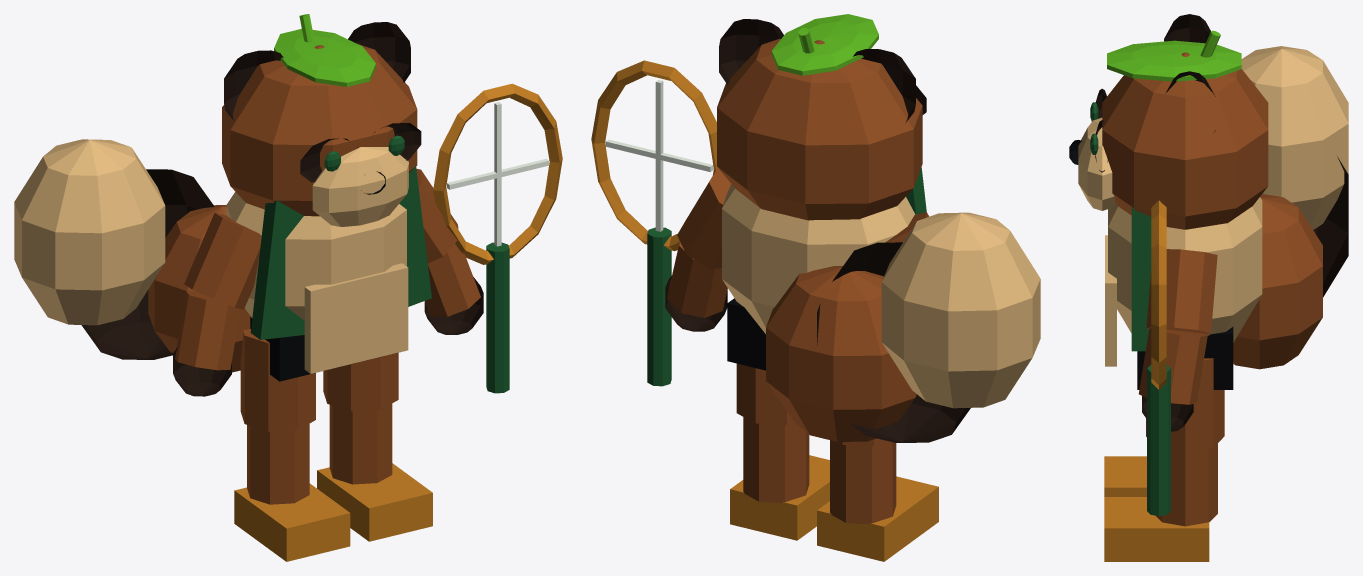
File: Poko_Tanuki_Model_v1.obj
3 renders of one model, left to right at view 1: azimuth 30°, elevation 25°; view 2: azimuth 150°, elevation 25°; view 3: azimuth 270°, elevation 25°, orthographic. The views are drawn at different scales.
Parts seen in each view (by area): view 1: Tail_2, Head, Haragake_Lower, Torso, L_Shoe, Muzzle, Racket_Frame, R_Shoe, Tail_0, L_Thigh, Tail_1, L_Upper_Arm (+19 smaller); view 2: Head, Tail_2, Tail_0, Torso, L_Shoe, L_Shin, R_Shin, Racket_Frame, Head_Leaf, Tail_1, R_Shoe, Racket_Handle (+9 smaller); view 3: Head, Tail_2, Tail_0, Torso, R_Shoe, Head_Leaf, R_Upper_Arm, R_Shin, Racket_Handle, Racket_Frame, R_Forearm, R_Thigh (+8 smaller).
Part boxes in pixels (x1,y1,x2,y2): Tail_2: [14, 139, 165, 325]; Head: [222, 43, 417, 216]; Haragake_Lower: [304, 263, 408, 373]; Torso: [226, 192, 406, 320]; L_Shoe: [234, 483, 350, 561]; Muzzle: [312, 147, 408, 226]; Racket_Frame: [433, 83, 562, 264]; R_Shoe: [317, 463, 432, 541]; Tail_0: [148, 205, 250, 372]; L_Thigh: [240, 329, 315, 431]; Tail_1: [81, 169, 214, 359]; L_Upper_Arm: [184, 213, 260, 309]; Head: [717, 38, 922, 220]; Tail_2: [881, 212, 1040, 408]; Tail_0: [766, 266, 916, 441]; Torso: [722, 184, 915, 333]; L_Shoe: [817, 476, 938, 561]; L_Shin: [830, 440, 896, 524]; R_Shin: [743, 417, 809, 502]; Racket_Frame: [591, 60, 717, 251]; Head_Leaf: [771, 14, 878, 75]; Tail_1: [817, 242, 970, 442]; R_Shoe: [730, 455, 829, 540]; Racket_Handle: [647, 227, 671, 386]; Head: [1102, 52, 1268, 229]; Tail_2: [1241, 46, 1348, 229]; Tail_0: [1233, 194, 1322, 369]; Torso: [1108, 197, 1262, 342]; R_Shoe: [1104, 497, 1209, 561]; Head_Leaf: [1107, 40, 1241, 81]; R_Upper_Arm: [1146, 249, 1217, 334]; R_Shin: [1156, 443, 1217, 526]; Racket_Handle: [1147, 365, 1170, 516]; Racket_Frame: [1151, 200, 1166, 389]; R_Forearm: [1138, 328, 1207, 404]; R_Thigh: [1146, 358, 1224, 452].
Bounding box in the file's own units: 2.56 × 2.49 × 1.28.
